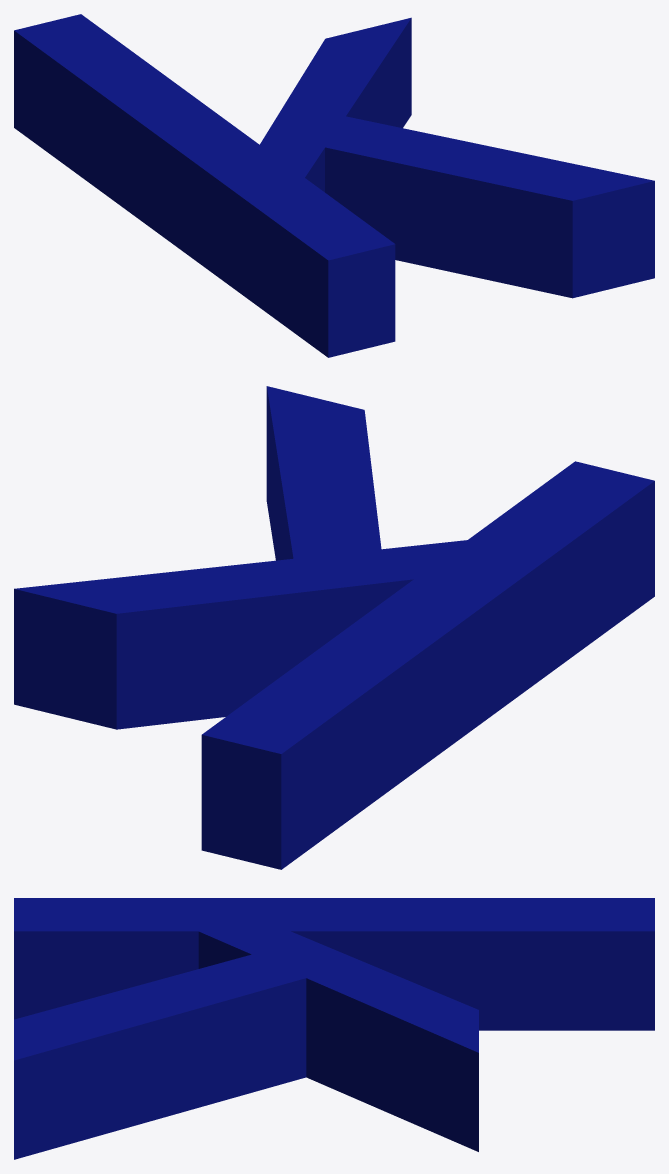
The picture shows the model from 3 angles, top to bottom: view 1: azimuth 30°, elevation 25°; view 2: azimuth 150°, elevation 25°; view 3: azimuth 270°, elevation 25°; orthographic projection. The views are drawn at different scales.
Visible parts, largest first — view 1: TextPlus037; view 2: TextPlus037; view 3: TextPlus037.
Part boxes in pixels (x1,y1,x2,y2): TextPlus037: (14,14,654,357); TextPlus037: (14,386,654,869); TextPlus037: (14,898,654,1159).
Size of the model in its own units: 15.38 by 4.38 by 25.64.
